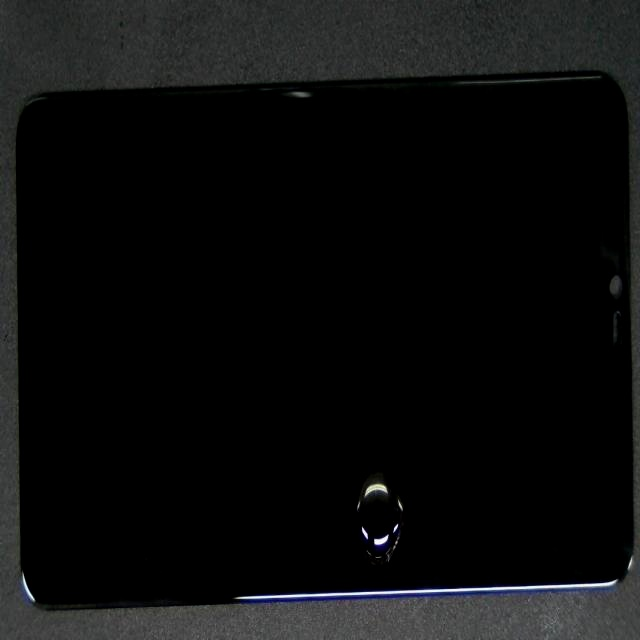oil: (218, 264, 616, 640)
